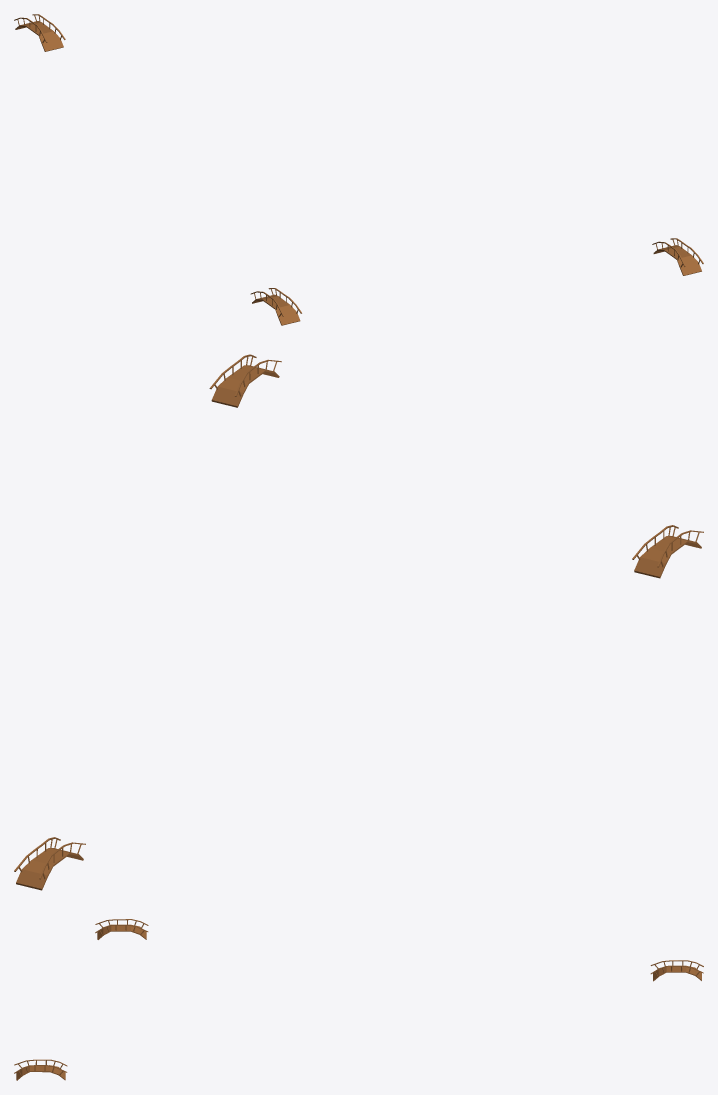
Rendered from object_59_lev2.glb.
3 renders of one model, top to bottom at view 1: azimuth 30°, elevation 25°; view 2: azimuth 150°, elevation 25°; view 3: azimuth 270°, elevation 25°, orthographic. The views are drawn at different scales.
Parts seen in each view (by area): view 1: object_59_lev2; view 2: object_59_lev2; view 3: object_59_lev2.
Part boxes in pixels (x1,y1,x2,y2): object_59_lev2: (14,14,703,325); object_59_lev2: (14,354,703,890); object_59_lev2: (14,919,703,1080).
Bounding box in the file's own units: 29.89 × 1.39 × 58.83.
